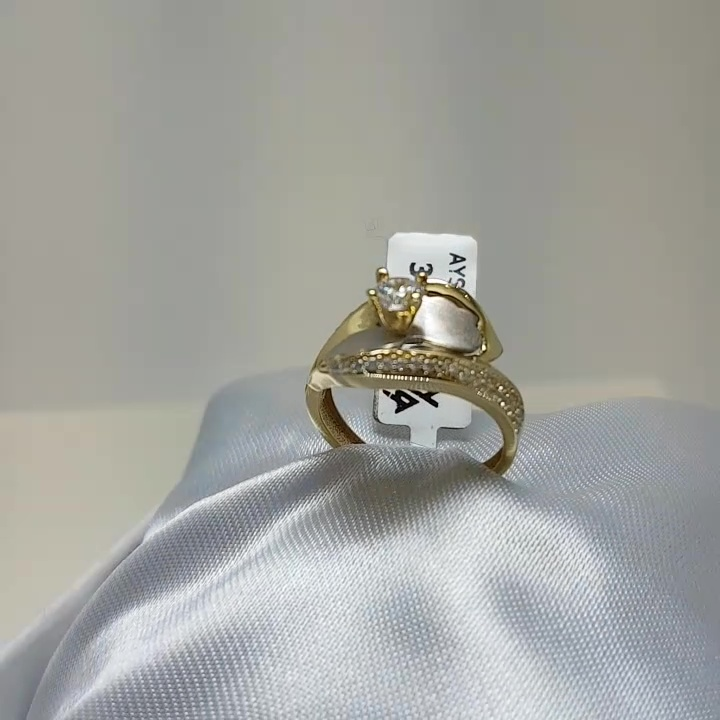Ring 6: (292, 257, 542, 480)
